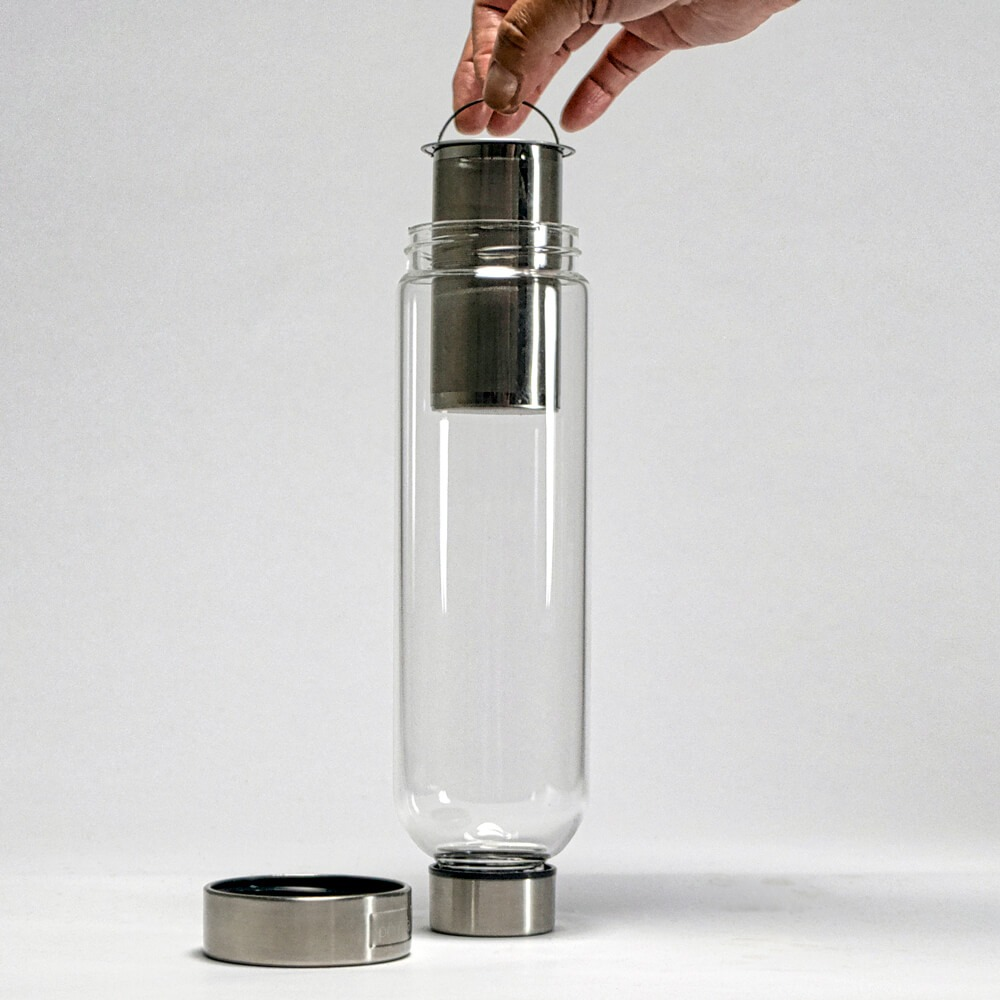container: (357, 106, 633, 903)
